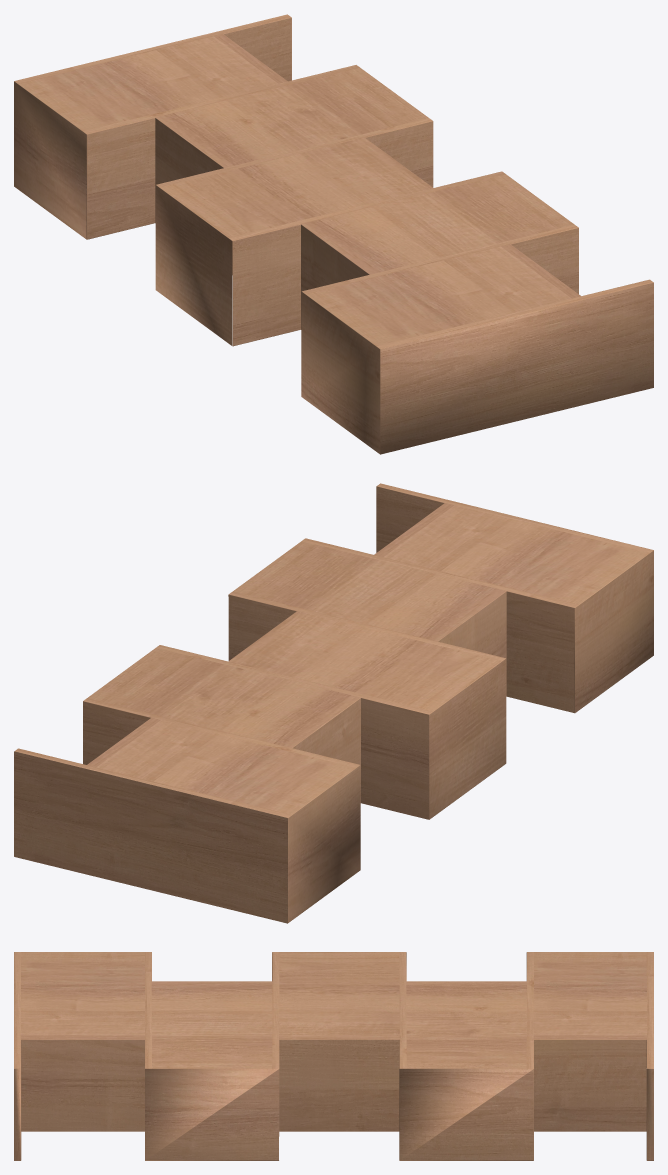
The model's file is bookshelf-opt.glb.
The picture shows the model from 3 angles, top to bottom: view 1: azimuth 30°, elevation 25°; view 2: azimuth 150°, elevation 25°; view 3: azimuth 270°, elevation 25°; orthographic projection. The views are drawn at different scales.
Parts seen in each view (by area): view 1: Asymmetric bookshelf; view 2: Asymmetric bookshelf; view 3: Asymmetric bookshelf.
Part boxes in pixels (x1=…): Asymmetric bookshelf: x1=14, y1=14, x2=653, y2=454; Asymmetric bookshelf: x1=14, y1=483, x2=653, y2=923; Asymmetric bookshelf: x1=14, y1=952, x2=653, y2=1160.
Bounding box in the file's own units: 0.7601 × 0.2799 × 1.76.
1 material, 1 textured.
